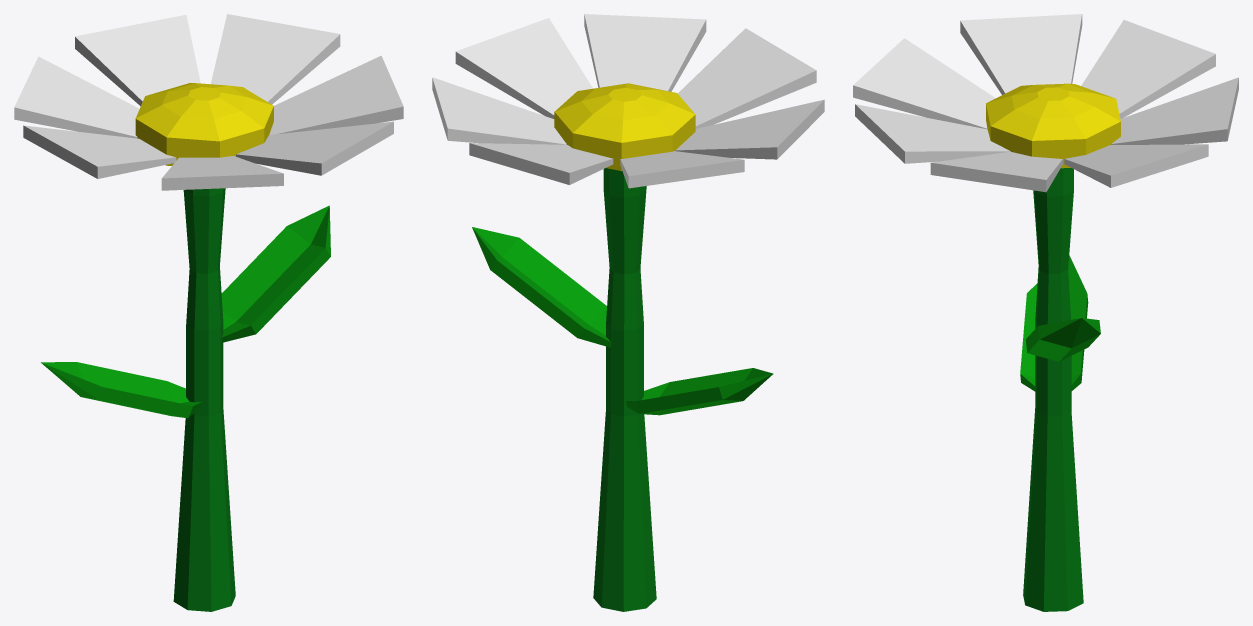
Rendered from kwiat1.fbx.
3 views of the same model, side by side, from view 1: azimuth 30°, elevation 25°; view 2: azimuth 150°, elevation 25°; view 3: azimuth 270°, elevation 25° (orthographic).
Visible parts, largest first — view 1: Circle, Cube.008, Cube.003, Cube.002, Cube.006, Cube.001, Cube.005, Cube.007, Cube, Cube.004; view 2: Circle, Cube.006, Cube.005, Cube.004, Cube.008, Cube.003, Cube, Cube.007, Cube.002, Cube.001; view 3: Circle, Cube, Cube.001, Cube.004, Cube.002, Cube.005, Cube.003, Cube.006, Cube.007, Cube.008.
Part boxes in pixels (x1,y1,x2,y2): Circle: [135, 83, 273, 611]; Cube.008: [221, 205, 330, 342]; Cube.003: [210, 14, 340, 104]; Cube.002: [75, 15, 200, 106]; Cube.006: [269, 55, 403, 134]; Cube.001: [14, 56, 139, 138]; Cube.005: [236, 121, 393, 175]; Cube.007: [41, 362, 202, 418]; Cube: [23, 125, 176, 178]; Cube.004: [161, 156, 283, 190]; Circle: [554, 83, 695, 611]; Cube.006: [455, 18, 592, 118]; Cube.005: [584, 14, 706, 91]; Cube.004: [678, 28, 816, 128]; Cube.008: [472, 227, 611, 347]; Cube.003: [432, 77, 566, 144]; Cube: [675, 99, 824, 159]; Cube.007: [626, 368, 773, 415]; Cube.002: [469, 143, 613, 184]; Cube.001: [620, 151, 744, 188]; Circle: [986, 83, 1120, 611]; Cube: [960, 14, 1082, 94]; Cube.001: [1081, 20, 1215, 118]; Cube.004: [853, 38, 995, 129]; Cube.002: [1111, 77, 1238, 144]; Cube.005: [855, 104, 1010, 163]; Cube.003: [1064, 144, 1208, 187]; Cube.006: [930, 151, 1062, 192]; Cube.007: [1020, 255, 1088, 391]; Cube.008: [1025, 318, 1100, 361].
Bounding box in the file's own units: 21.12 × 29.96 × 20.74.
